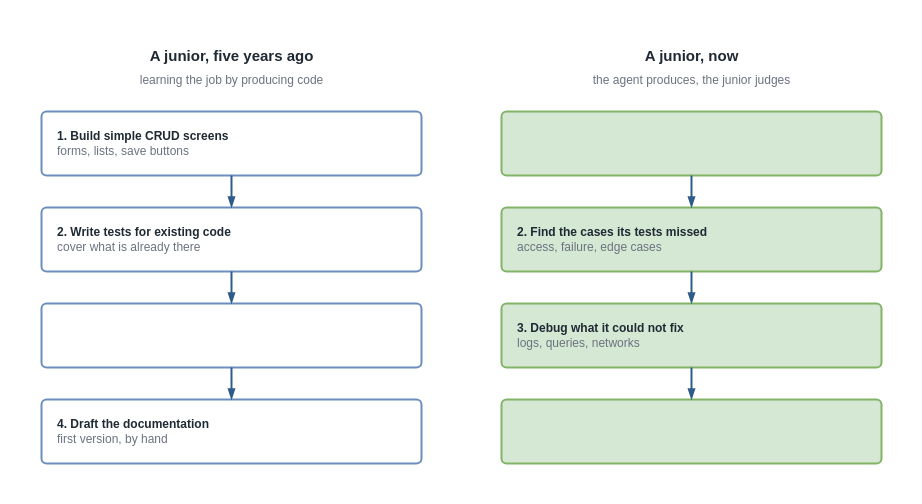
The diagram is 922 pixels wide and 504 high, and some of its shapes have lost their labels. The centre of each missing label's shape, as x and y in pixels:
"1. Review what the agent wrote would you merge it, and why" belongs at (x=691, y=143).
"3. Fix small bugs with a clear stack trace" belongs at (x=231, y=335).
"4. Explain the decision to the team, in plain words" belongs at (x=691, y=431).
